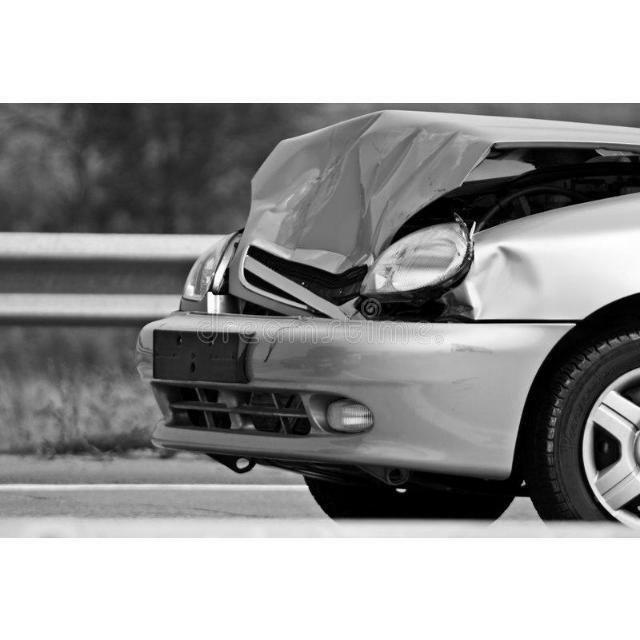bonnet-dent: (220, 108, 472, 311)
fender-dent: (453, 208, 640, 367)
